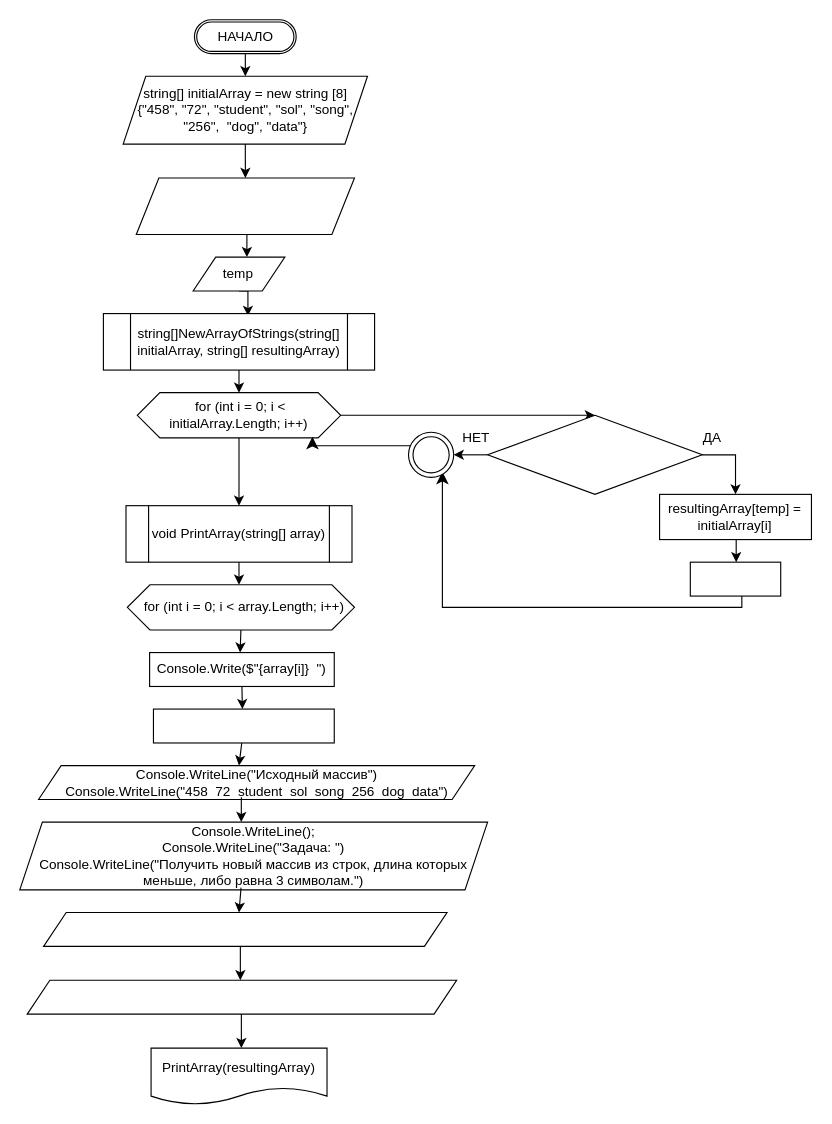
Image size: 832x1124. Some labels were removed from this diagram. Here are the shapes that lost their labels. From the top down, the box of each, then its label:
(135, 177, 354, 234): string[] resultingArray = new string[initialArray.Length];
(486, 414, 702, 494): if(initialArray[i].Length <= 3)
(689, 561, 781, 596): temp++
(152, 708, 334, 743): Console.WriteLine()
(42, 911, 447, 946): Console.WriteLine() Console.WriteLine("Полученный массив")
(26, 979, 457, 1014): resultingArray = NewArrayOfStrings(initialArray, resultingArray);
